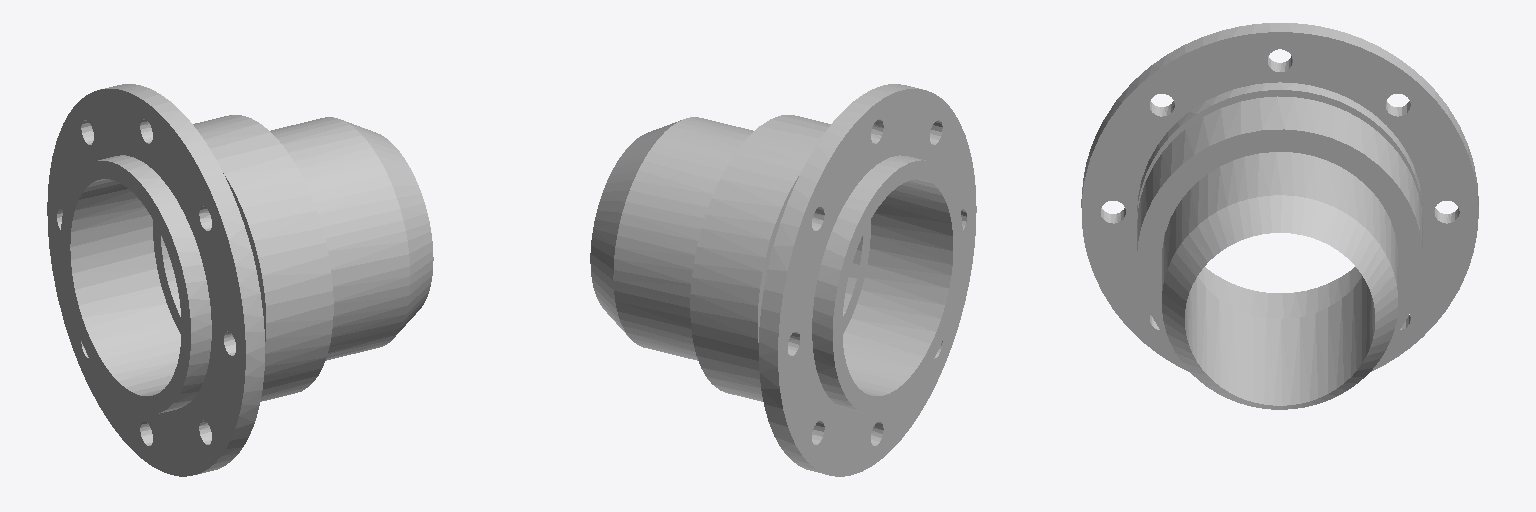
The model's file is oil seal housing.obj.
The picture shows the model from 3 angles: view 1: azimuth 30°, elevation 25°; view 2: azimuth 150°, elevation 25°; view 3: azimuth 270°, elevation 25°; orthographic projection.
Visible parts, largest first — view 1: imagetostl_mesh; view 2: imagetostl_mesh; view 3: imagetostl_mesh.
Boxes of the visible parts, x1=… form: imagetostl_mesh: x1=47, y1=84, x2=433, y2=476; imagetostl_mesh: x1=590, y1=84, x2=976, y2=476; imagetostl_mesh: x1=1081, y1=23, x2=1478, y2=409.
Bounding box in the file's own units: 189 × 250 × 250.